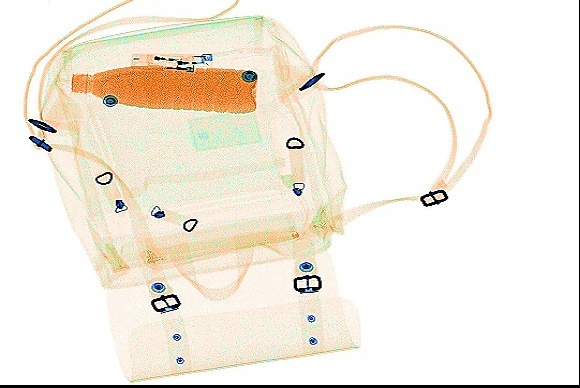lighter: (130, 50, 212, 71)
